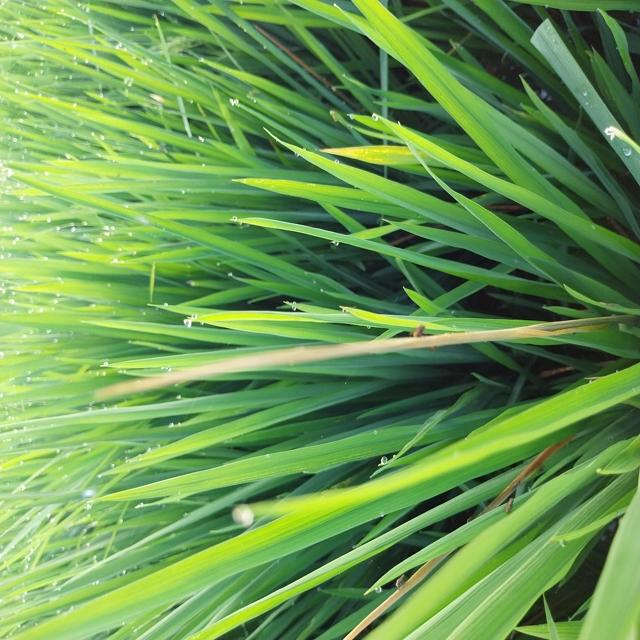healthy: (406, 321, 430, 346)
